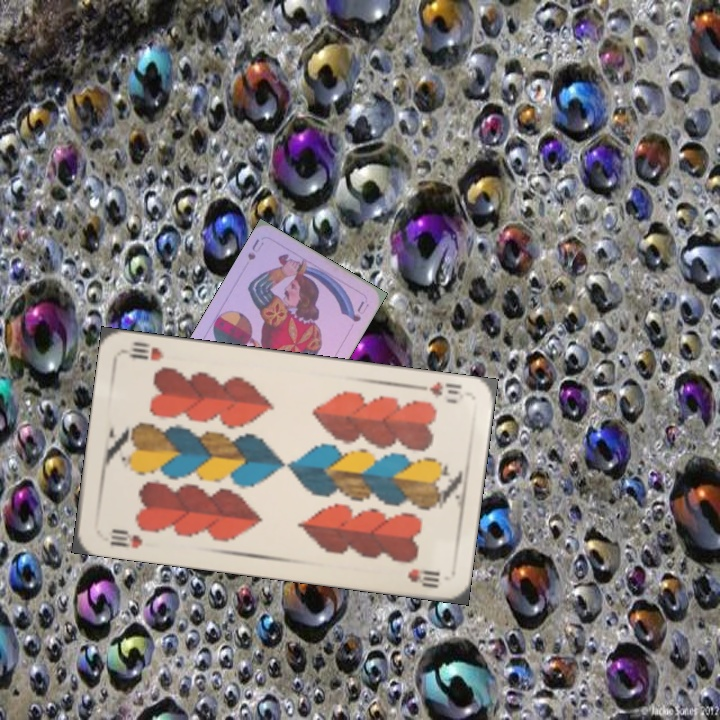H10: (411, 378, 465, 406), (106, 524, 146, 551)
SU: (243, 235, 267, 263)
